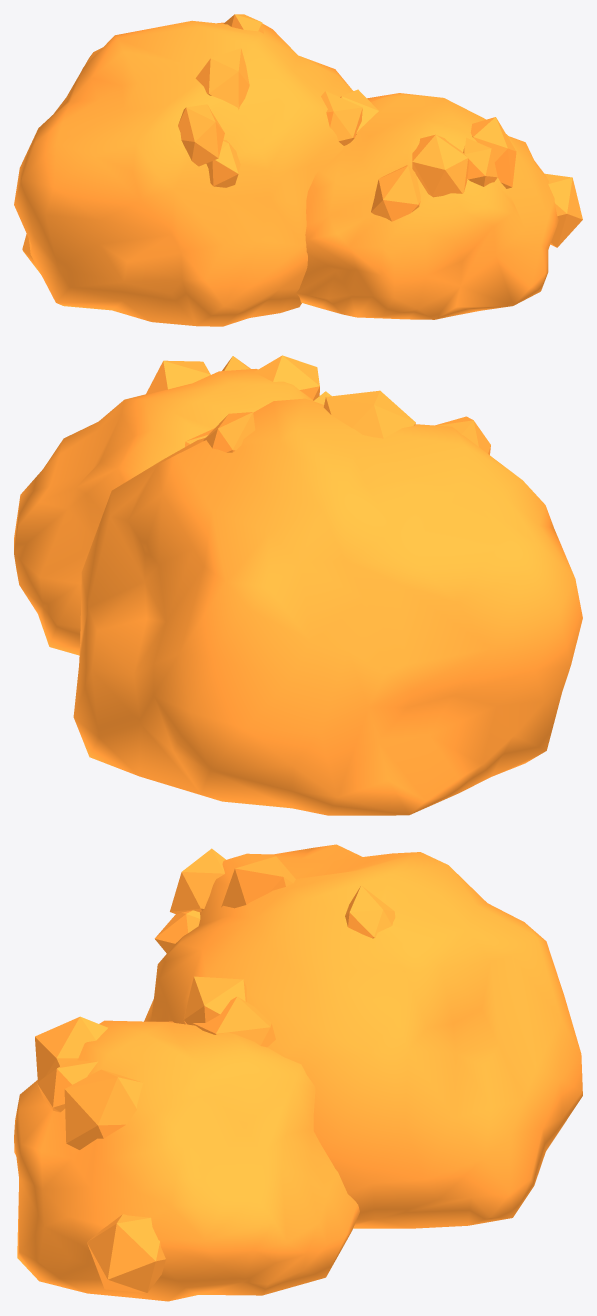
The model's file is rock_ore_b.glb.
3 views of the same model, one above another, from view 1: azimuth 30°, elevation 25°; view 2: azimuth 150°, elevation 25°; view 3: azimuth 270°, elevation 25° (orthographic). The views are drawn at different scales.
Visible parts, largest first — view 1: nug; view 2: nug; view 3: nug.
Boxes of the visible parts, <box> form: nug: <box>14,14,582,326</box>; nug: <box>14,355,582,815</box>; nug: <box>14,844,582,1301</box>.
Bounding box in the file's own units: 1.92 × 0.9374 × 1.6.
